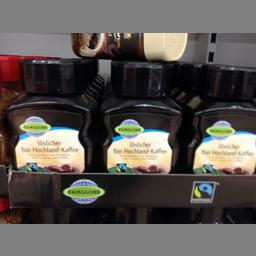coffee: (4, 56, 94, 169), (100, 56, 180, 173), (185, 60, 254, 172), (70, 32, 186, 61)
